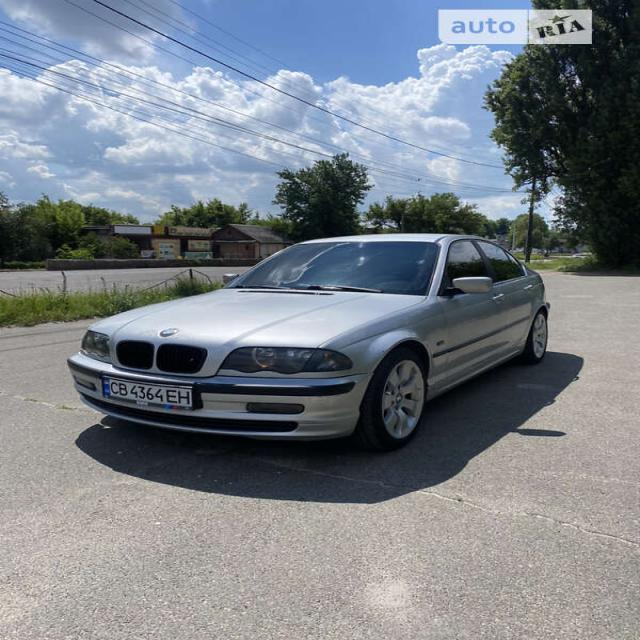plate: (96, 370, 200, 415)
